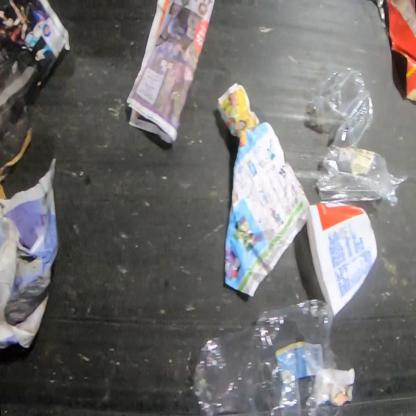cardboard: (387, 0, 415, 104)
rigid_plastic: (304, 67, 408, 208), (306, 202, 379, 317)
soft_plastic: (192, 298, 341, 415)
